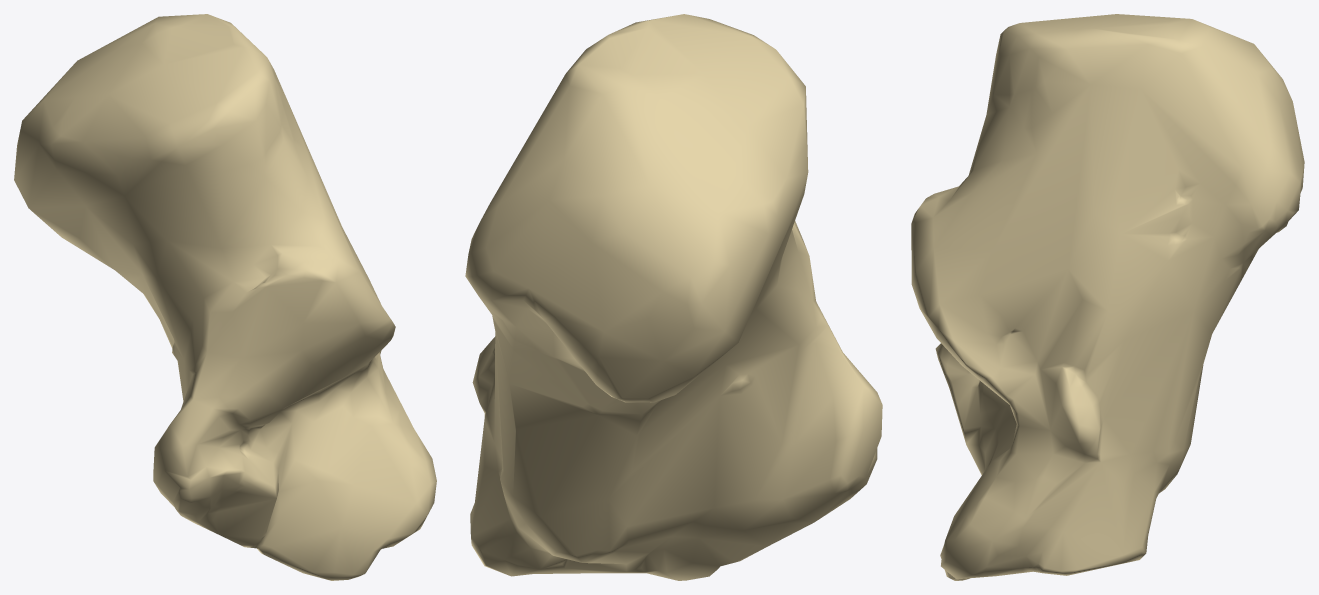
3 views of the same model, side by side, from view 1: azimuth 30°, elevation 25°; view 2: azimuth 150°, elevation 25°; view 3: azimuth 270°, elevation 25° (orthographic). The views are drawn at different scales.
Parts seen in each view (by area): view 1: 左侧跟骨; view 2: 左侧跟骨; view 3: 左侧跟骨.
Part boxes in pixels (bbox=[...]): 左侧跟骨: bbox=[14, 14, 436, 580]; 左侧跟骨: bbox=[465, 14, 882, 580]; 左侧跟骨: bbox=[911, 14, 1304, 580].
Size of the model in its own units: 0.07 by 0.1115 by 0.0753.
